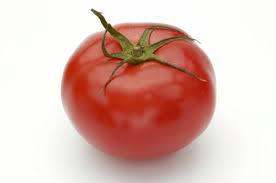tomato: (60, 25, 219, 161)
